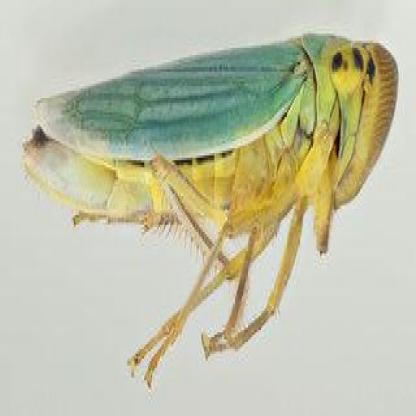Green-Leafhopper: (21, 22, 398, 388)
